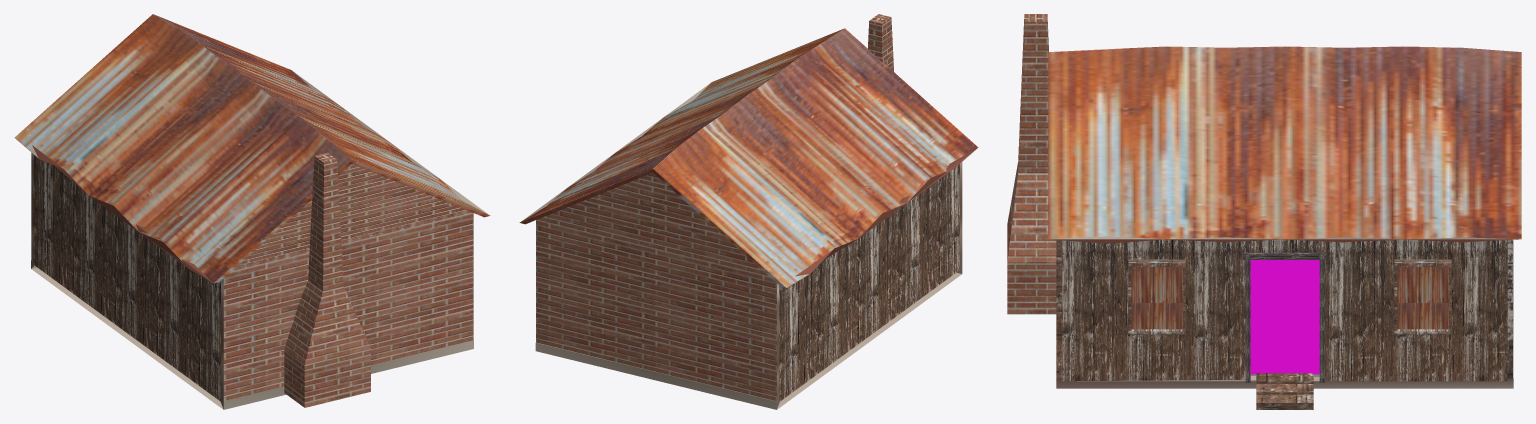
The model's file is OldShack.fbx.
The picture shows the model from 3 angles, left to right: view 1: azimuth 30°, elevation 25°; view 2: azimuth 150°, elevation 25°; view 3: azimuth 270°, elevation 25°; orthographic projection. The views are drawn at different scales.
Visible parts, largest first — view 1: Foundation; view 2: Foundation; view 3: Foundation.
Part boxes in pixels (x1,y1,x2,y2): Foundation: (14, 14, 490, 409); Foundation: (519, 14, 978, 409); Foundation: (1007, 14, 1521, 409).
Bounding box in the file's own units: 1448 × 1080 × 1798.
